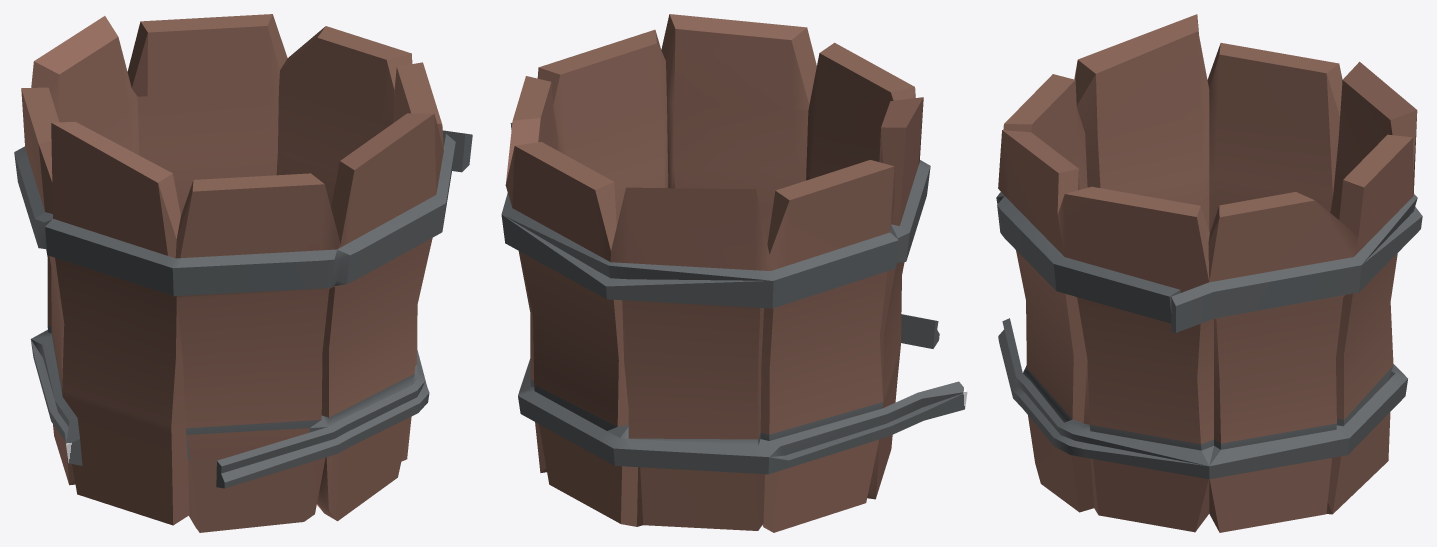
The model's file is SM_Bucket_Wooden_01.fbx.
3 renders of one model, left to right at view 1: azimuth 30°, elevation 25°; view 2: azimuth 150°, elevation 25°; view 3: azimuth 270°, elevation 25°, orthographic. The views are drawn at different scales.
Visible parts, largest first — view 1: Bucket_Wooden_01; view 2: Bucket_Wooden_01; view 3: Bucket_Wooden_01.
Boxes of the visible parts, x1,y1,x2,y2 form: Bucket_Wooden_01: (14, 14, 472, 532); Bucket_Wooden_01: (501, 14, 967, 532); Bucket_Wooden_01: (996, 14, 1422, 532).
Size of the model in its own units: 29.33 by 25.14 by 25.99.
